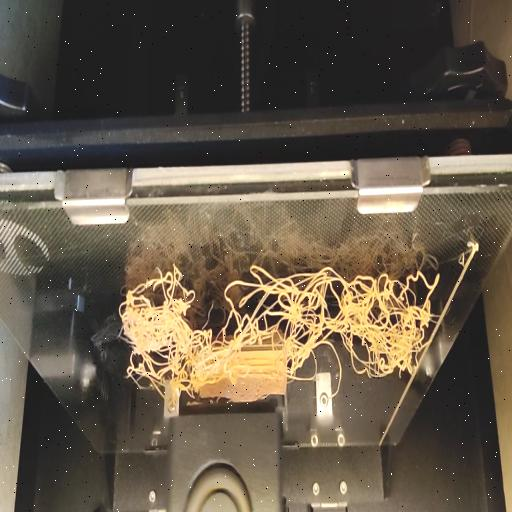spaghetti: (114, 264, 442, 398)
